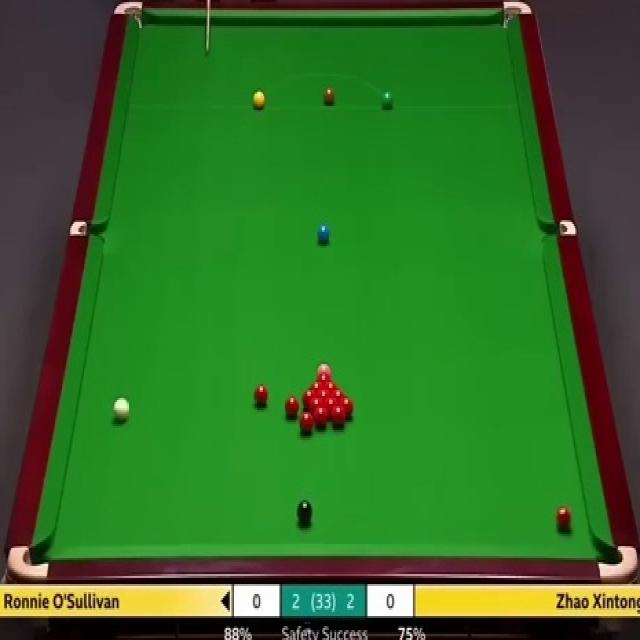black-ball: (296, 501, 312, 528)
blue-ball: (316, 222, 330, 246)
brown-ball: (322, 88, 334, 106)
green-ball: (382, 90, 393, 110)
pink-ball: (317, 361, 332, 373)
red-ball: (252, 385, 270, 410), (283, 395, 300, 421), (556, 506, 572, 532), (298, 412, 314, 437), (339, 397, 355, 419), (308, 396, 324, 417), (331, 406, 347, 427), (314, 406, 327, 431), (324, 397, 339, 417), (322, 382, 340, 394), (302, 389, 316, 401), (316, 372, 332, 382), (315, 389, 330, 399), (309, 382, 324, 391), (331, 390, 345, 399)
white-ball: (111, 394, 130, 421)
yellow-ball: (252, 89, 267, 110)
